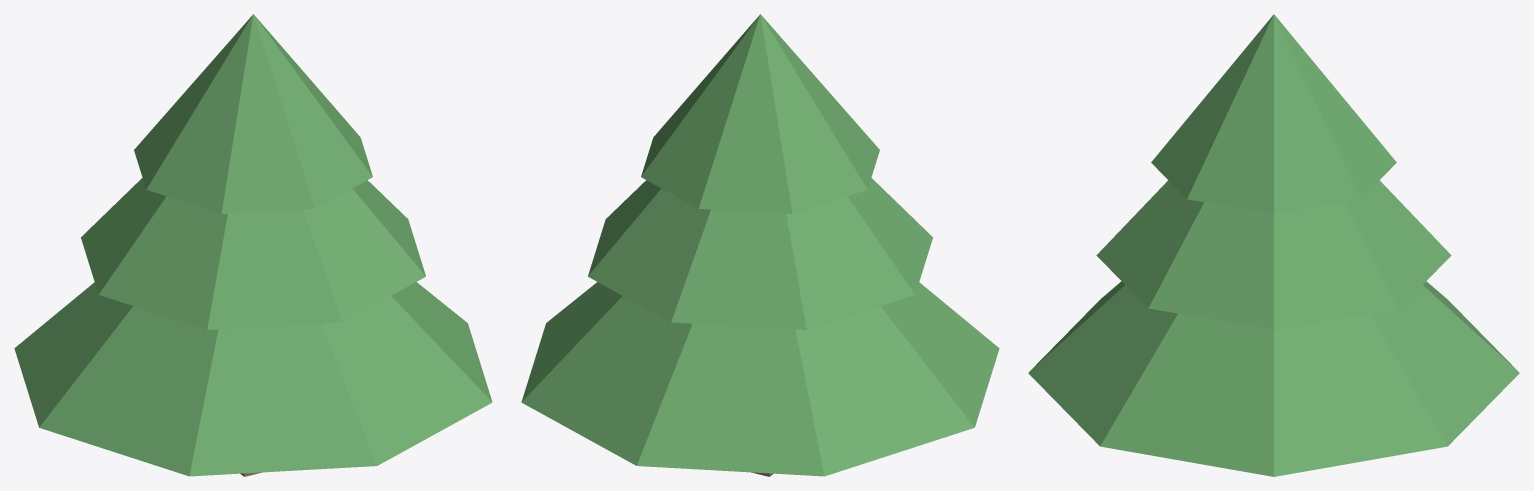
Rendered from tree.gltf.
The picture shows the model from 3 angles, left to right: view 1: azimuth 30°, elevation 25°; view 2: azimuth 150°, elevation 25°; view 3: azimuth 270°, elevation 25°; orthographic projection.
Parts seen in each view (by area): view 1: foliage1, foliage2, foliage3; view 2: foliage1, foliage2, foliage3; view 3: foliage1, foliage2, foliage3.
Boxes of the visible parts, x1,y1,x2,y2 form: foliage1: [14, 282, 492, 476]; foliage2: [81, 178, 425, 329]; foliage3: [134, 14, 372, 213]; foliage1: [521, 282, 999, 476]; foliage2: [588, 178, 932, 329]; foliage3: [641, 14, 879, 213]; foliage1: [1028, 281, 1519, 476]; foliage2: [1096, 180, 1451, 330]; foliage3: [1151, 14, 1396, 214].
Size of the model in its own units: 1.8 by 1.8 by 1.8.
